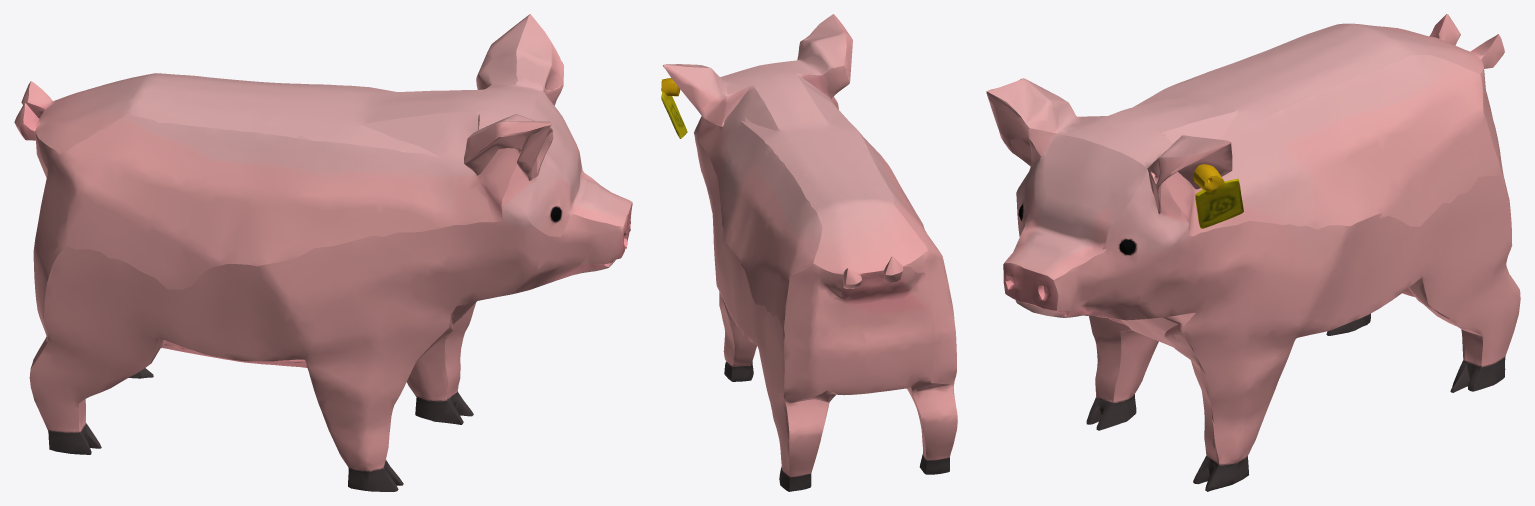
Rendered from CHAR_01.glb.
3 renders of one model, left to right at view 1: azimuth 30°, elevation 25°; view 2: azimuth 150°, elevation 25°; view 3: azimuth 270°, elevation 25°, orthographic. The views are drawn at different scales.
Parts seen in each view (by area): view 1: world; view 2: world; view 3: world.
Boxes of the visible parts, left/top/right/bottom form: world: left=14, top=14, right=632, bottom=491; world: left=661, top=14, right=957, bottom=491; world: left=986, top=14, right=1520, bottom=491.
Bounding box in the file's own units: 1 × 0.7998 × 1.
1 material, 1 textured.
